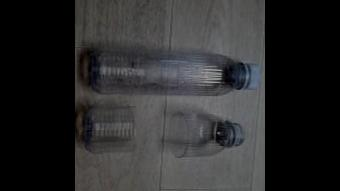bottle: (90, 44, 261, 98), (83, 104, 244, 158)
